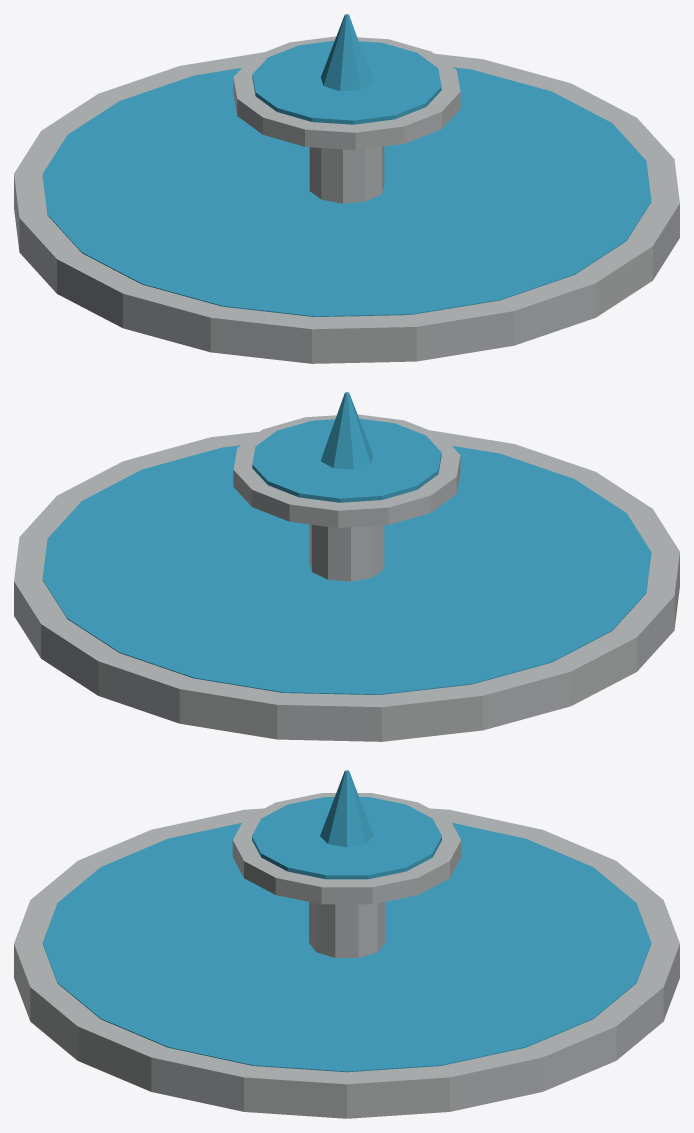
File: fountain.glb
3 views of the same model, one above another, from view 1: azimuth 30°, elevation 25°; view 2: azimuth 150°, elevation 25°; view 3: azimuth 270°, elevation 25° (orthographic).
Visible parts, largest first — view 1: Cylinder; view 2: Cylinder; view 3: Cylinder.
Part boxes in pixels (<box>): Cylinder: <box>14,14,679,363</box>; Cylinder: <box>14,392,679,741</box>; Cylinder: <box>14,770,679,1118</box>.
Size of the model in its own units: 14 by 4.8 by 14.
